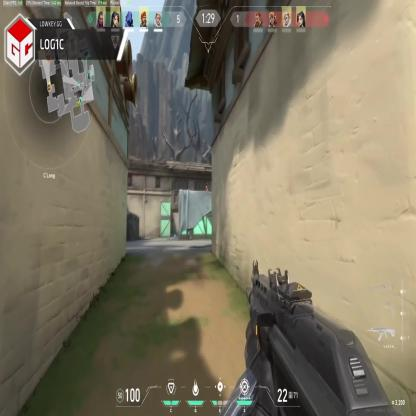enemy: (205, 186, 209, 196)
enemy_head: (206, 185, 207, 188)
